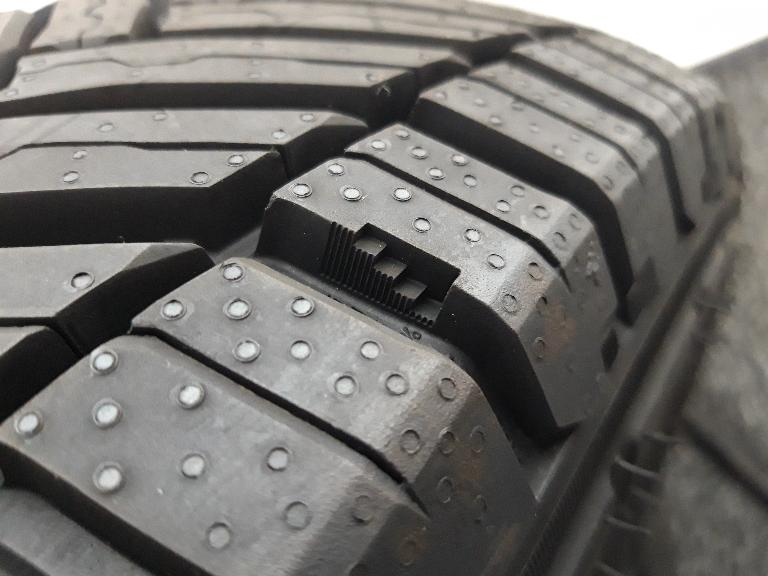temoin:100: (314, 214, 467, 337)
